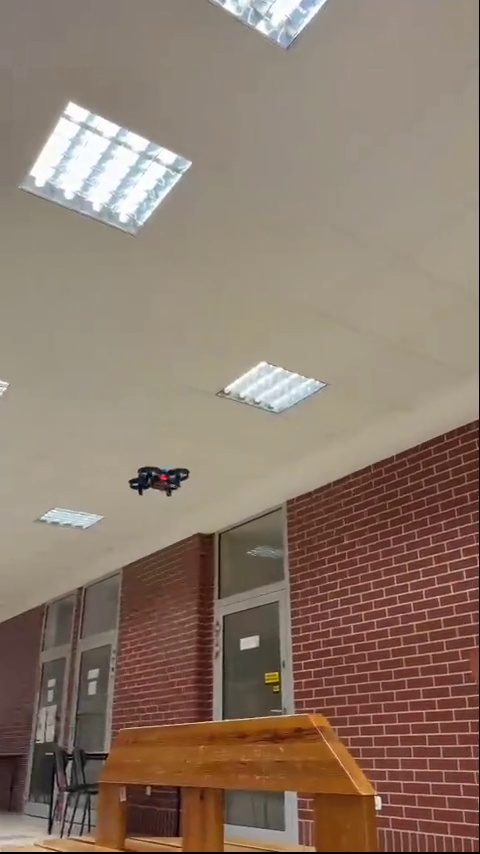drone: (128, 463, 191, 492)
